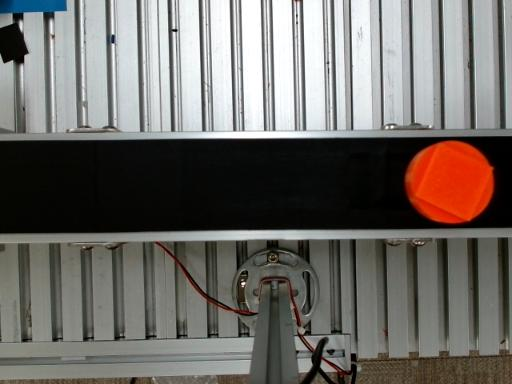Square: (414, 142, 494, 221)
